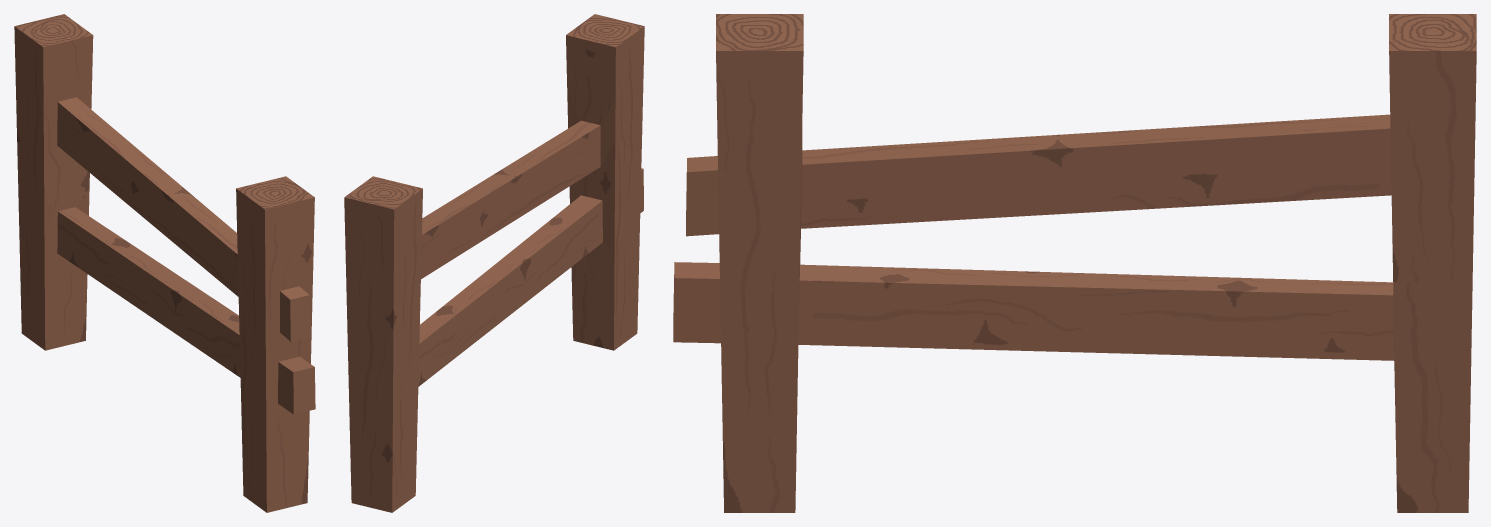
File: brkn-fence-end2.fbx
3 views of the same model, side by side, from view 1: azimuth 30°, elevation 25°; view 2: azimuth 150°, elevation 25°; view 3: azimuth 270°, elevation 25° (orthographic). The views are drawn at different scales.
Visible parts, largest first — view 1: Cube; view 2: Cube; view 3: Cube.
Boxes of the visible parts, <box> form: Cube: <box>14,14,315,512</box>; Cube: <box>344,14,644,512</box>; Cube: <box>673,14,1476,512</box>.
Size of the model in its own units: 70.42 by 413 by 646.
